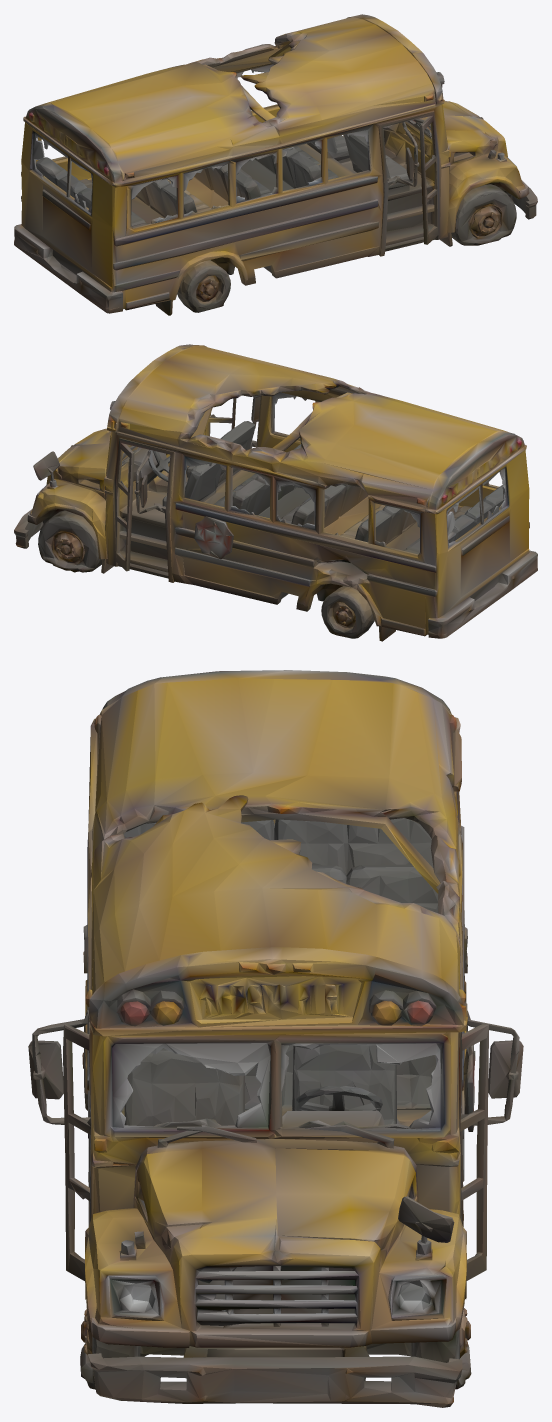
File: school_bus.glb
3 views of the same model, one above another, from view 1: azimuth 30°, elevation 25°; view 2: azimuth 150°, elevation 25°; view 3: azimuth 270°, elevation 25° (orthographic). The views are drawn at different scales.
Visible parts, largest first — view 1: tripo_node_c7d032f9-edd8-451d-8db0-d47f73eeba4d; view 2: tripo_node_c7d032f9-edd8-451d-8db0-d47f73eeba4d; view 3: tripo_node_c7d032f9-edd8-451d-8db0-d47f73eeba4d.
Part boxes in pixels (box(x1,y1,x2,y2)): tripo_node_c7d032f9-edd8-451d-8db0-d47f73eeba4d: box(14, 14, 537, 315); tripo_node_c7d032f9-edd8-451d-8db0-d47f73eeba4d: box(14, 344, 537, 641); tripo_node_c7d032f9-edd8-451d-8db0-d47f73eeba4d: box(28, 670, 523, 1407).
Bounding box in the file's own units: 0.9798 × 0.4001 × 0.4802.
